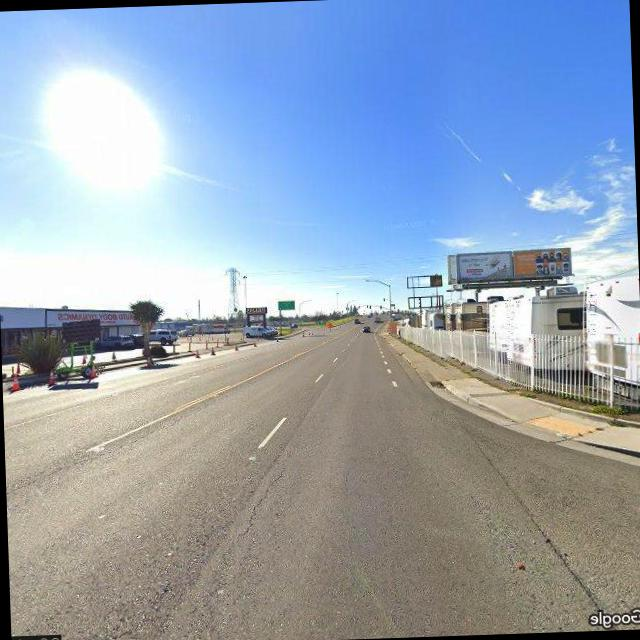pothole: (236, 456, 294, 540)
